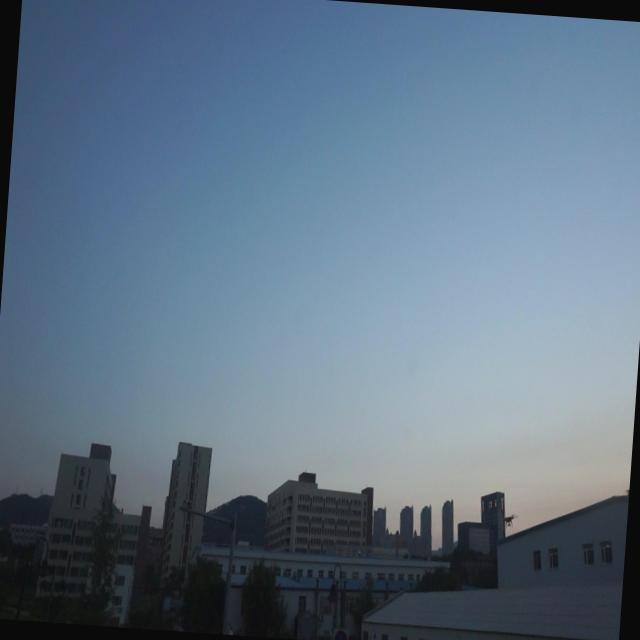drone: (500, 510, 516, 528)
